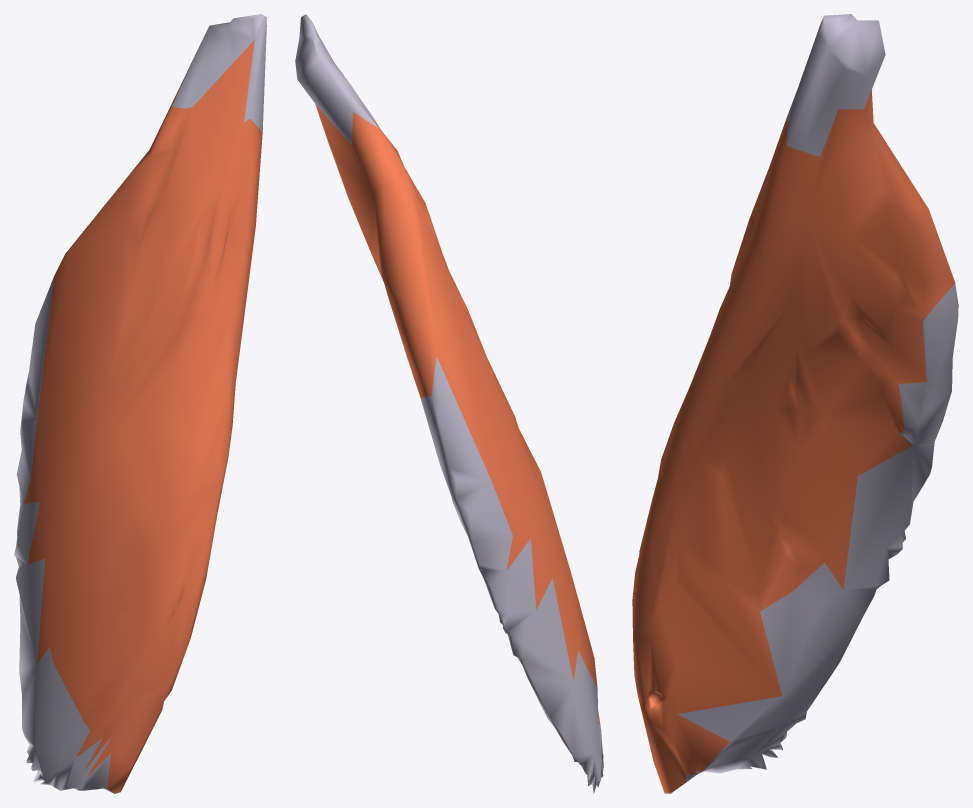
The model's file is Opponens_digiti_minimi_hand_left.glb.
The picture shows the model from 3 angles, left to right: view 1: azimuth 30°, elevation 25°; view 2: azimuth 150°, elevation 25°; view 3: azimuth 270°, elevation 25°; orthographic projection. The views are drawn at different scales.
Parts seen in each view (by area): view 1: Opponens_digiti_minimi_of_hand.l_Generated_Mesh_From_X3D.316; view 2: Opponens_digiti_minimi_of_hand.l_Generated_Mesh_From_X3D.316; view 3: Opponens_digiti_minimi_of_hand.l_Generated_Mesh_From_X3D.316.
Boxes of the visible parts, <box> form: Opponens_digiti_minimi_of_hand.l_Generated_Mesh_From_X3D.316: <box>14,14,266,793</box>; Opponens_digiti_minimi_of_hand.l_Generated_Mesh_From_X3D.316: <box>295,14,603,793</box>; Opponens_digiti_minimi_of_hand.l_Generated_Mesh_From_X3D.316: <box>632,14,958,793</box>.
Size of the model in its own units: 0.0185 by 0.0477 by 0.0154.
